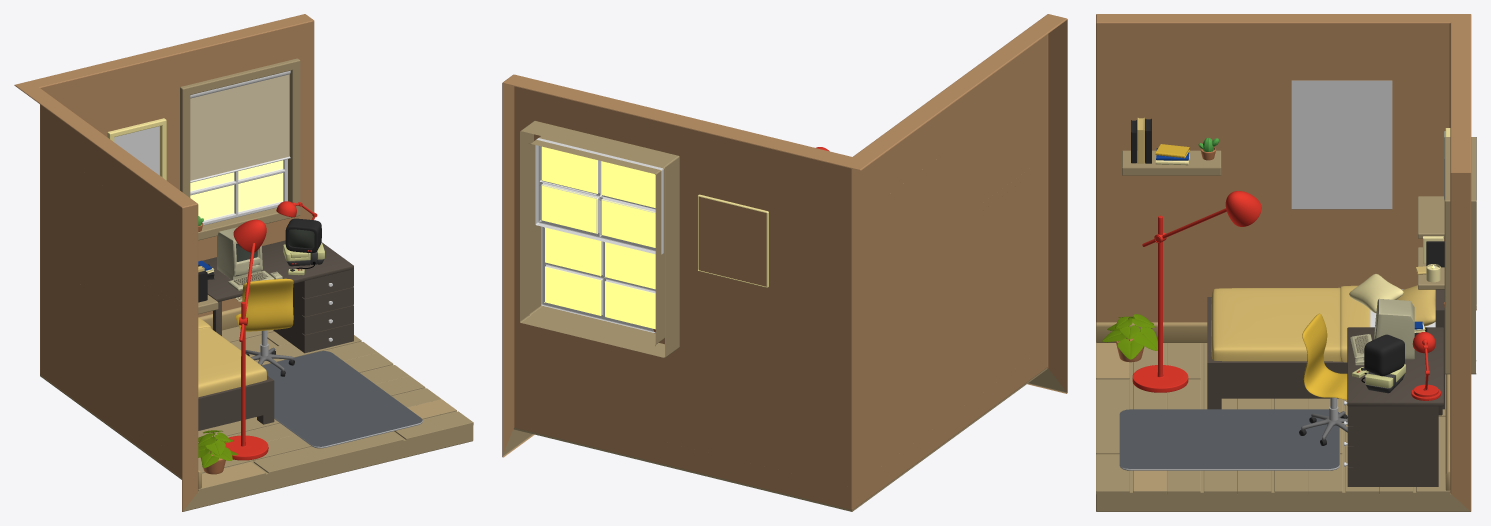
The picture shows the model from 3 angles, left to right: view 1: azimuth 30°, elevation 25°; view 2: azimuth 150°, elevation 25°; view 3: azimuth 270°, elevation 25°; orthographic projection. The views are drawn at different scales.
Parts seen in each view (by area): view 1: Walls, Floor, Rug, Blinds, Window Frame, Drawers, Lower Window, Sheets, Bed Frame, Table Top, Seat, Table Top.004 (+5 smaller); view 2: Walls, Window Frame, Upper Window, Lower Window, Floor, Table Top.004; view 3: Walls, Floor, Walls.001, Rug, Sheets, Drawers, Bed Frame, Table Top, Window Frame, Seat, Floor Frame, Circle.001 (+11 smaller).
Part boxes in pixels (<box>): Walls: <box>14,14,473,511</box>; Floor: <box>40,326,473,491</box>; Rug: <box>261,351,422,448</box>; Blinds: <box>190,74,289,180</box>; Window Frame: <box>180,58,300,240</box>; Drawers: <box>273,269,353,353</box>; Lower Window: <box>190,159,287,225</box>; Sheets: <box>198,317,266,397</box>; Bed Frame: <box>198,375,274,430</box>; Table Top: <box>202,240,353,301</box>; Seat: <box>235,278,293,331</box>; Table Top.004: <box>107,118,166,180</box>; Walls: <box>502,14,1067,509</box>; Window Frame: <box>520,121,679,357</box>; Upper Window: <box>535,138,663,254</box>; Lower Window: <box>541,226,655,333</box>; Floor: <box>514,368,1047,511</box>; Table Top.004: <box>697,194,768,287</box>; Walls: <box>1096,14,1471,511</box>; Floor: <box>1096,342,1450,494</box>; Walls.001: <box>1291,80,1392,209</box>; Rug: <box>1119,409,1339,470</box>; Sheets: <box>1211,285,1370,362</box>; Drawers: <box>1347,406,1438,486</box>; Bed Frame: <box>1207,289,1444,409</box>; Table Top: <box>1347,327,1443,406</box>; Window Frame: <box>1444,137,1476,374</box>; Seat: <box>1302,313,1347,399</box>; Floor Frame: <box>1096,322,1450,490</box>; Circle.001: <box>1132,215,1188,392</box>.
Size of the model in its own units: 4 by 4 by 4.06.
